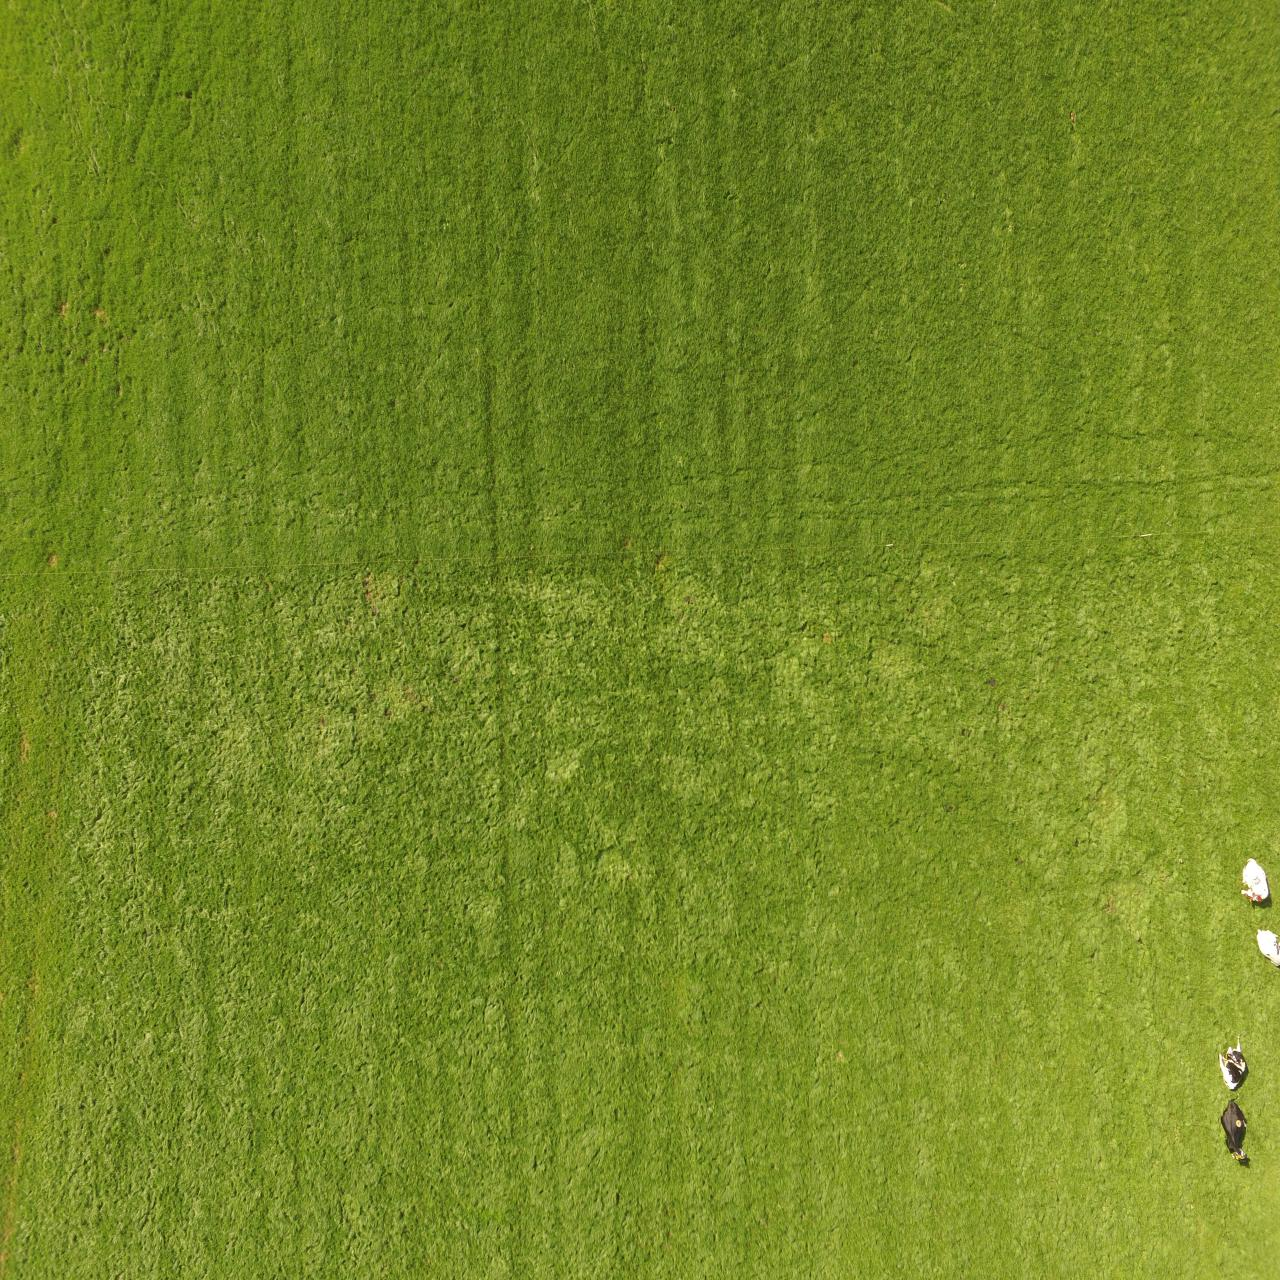cow: (1220, 1098, 1248, 1160), (1218, 1033, 1247, 1091), (1241, 857, 1271, 906), (1254, 927, 1280, 965)
